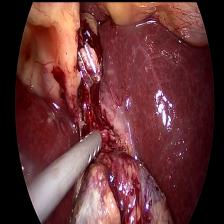Irrigator: (69, 122, 103, 176)
